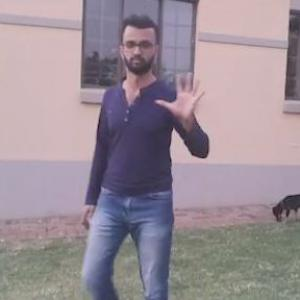follow_hand: (153, 65, 211, 126)
